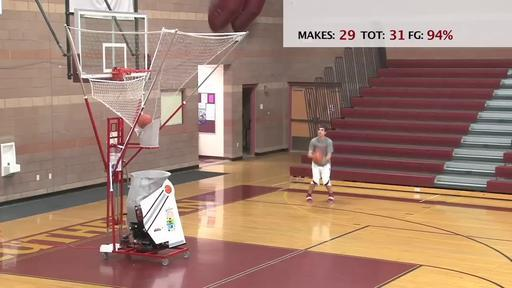ball: (136, 114, 152, 129), (312, 152, 324, 165)
human: (306, 126, 336, 204)
rim: (119, 68, 152, 96)
